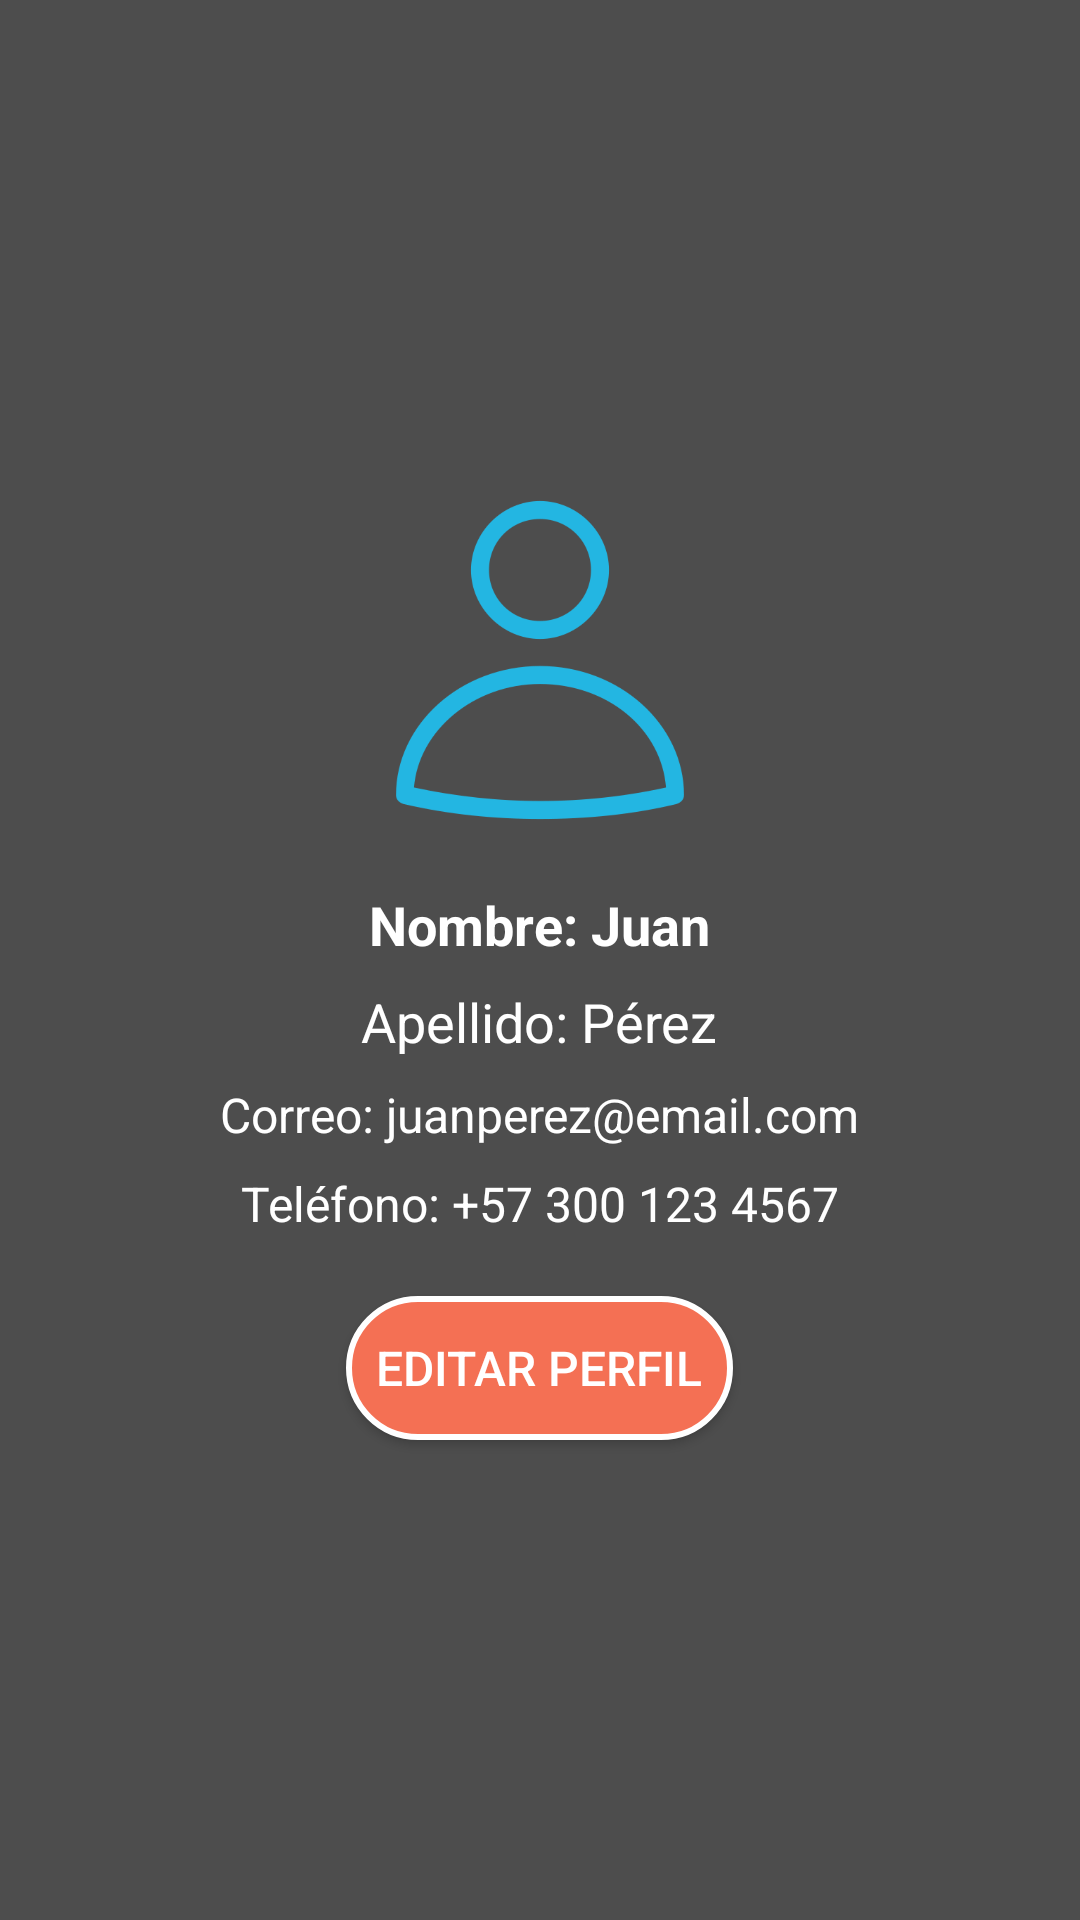

Named icons in this screenshot (1080px×1920px) and their bounding boxes, (x1, y1, x2, y2):
Imagen de perfil: (396, 501, 684, 819)
